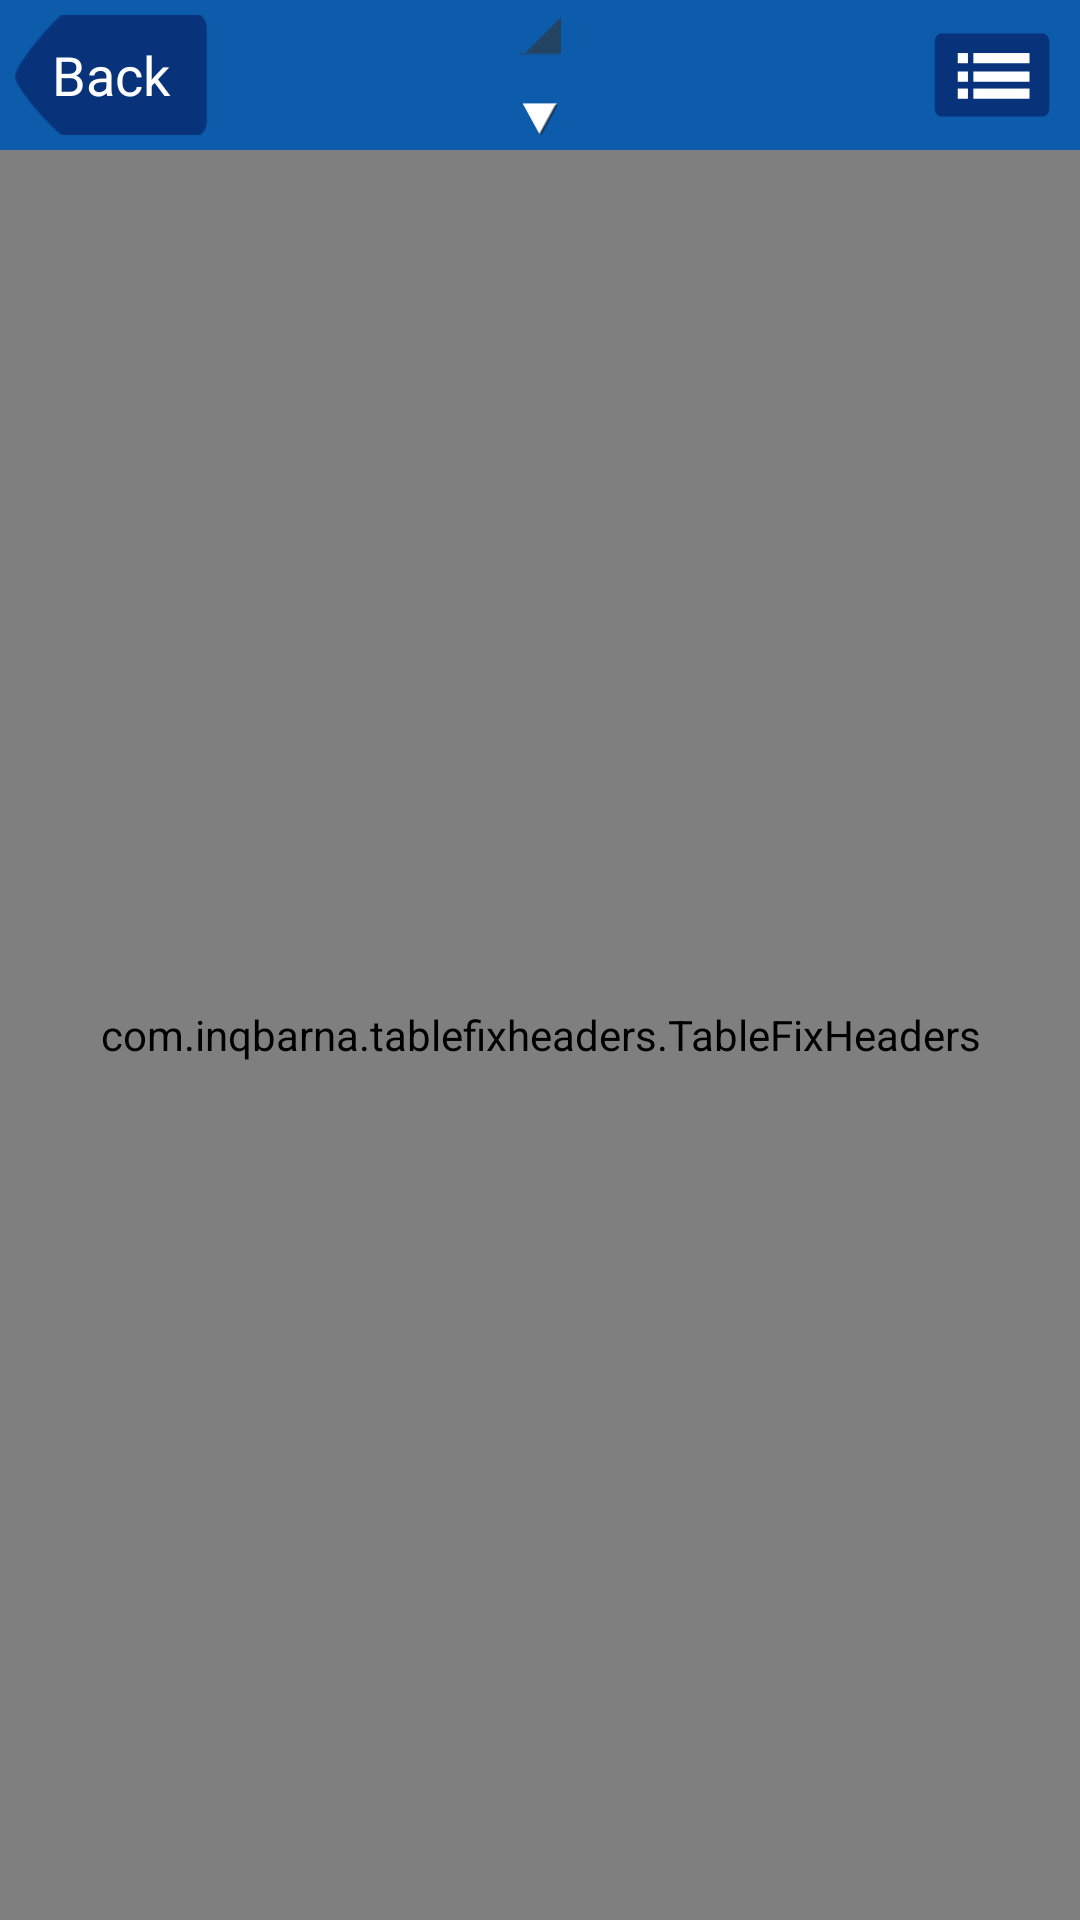

Screen size 1080px×1920px. Icon name, then its center in pixels as (x,y):
list but: (992,75)
spinner arrow: (540,119)
